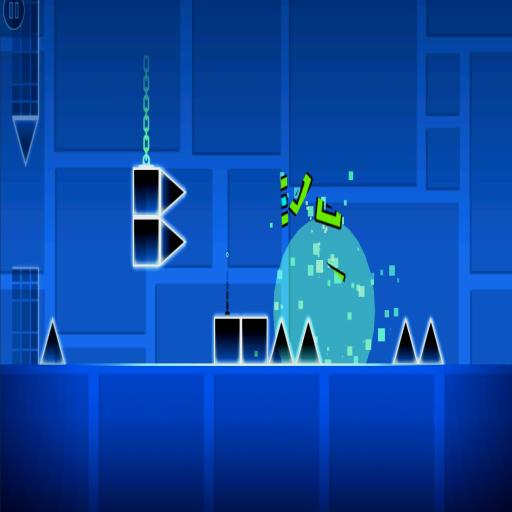block: (8, 266, 42, 369), (211, 313, 270, 372), (10, 0, 41, 112), (130, 165, 162, 273)
spike: (13, 117, 40, 165), (39, 317, 65, 366), (420, 313, 444, 366), (161, 221, 185, 265), (161, 171, 185, 214), (394, 321, 417, 365), (270, 320, 293, 363), (297, 320, 320, 363)
